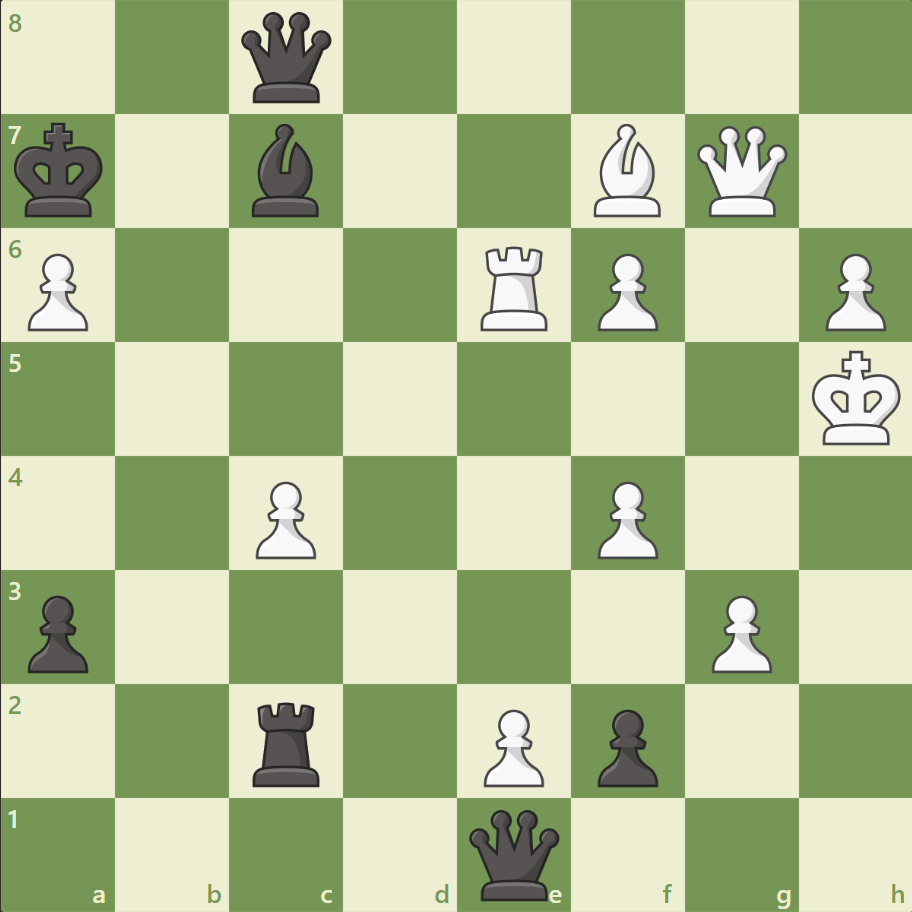B: (585, 120, 669, 222)
K: (806, 344, 906, 452)
P: (20, 246, 95, 337), (247, 473, 322, 564), (701, 586, 776, 677), (474, 700, 549, 791), (588, 246, 662, 337), (815, 246, 889, 337), (588, 473, 662, 564)
Q: (691, 122, 790, 222)
R: (473, 239, 556, 336)
b: (244, 120, 328, 222)
k: (11, 117, 111, 225)
p: (20, 586, 95, 677), (588, 700, 662, 791)
q: (237, 9, 336, 108), (464, 804, 563, 903)
r: (246, 693, 329, 790)
